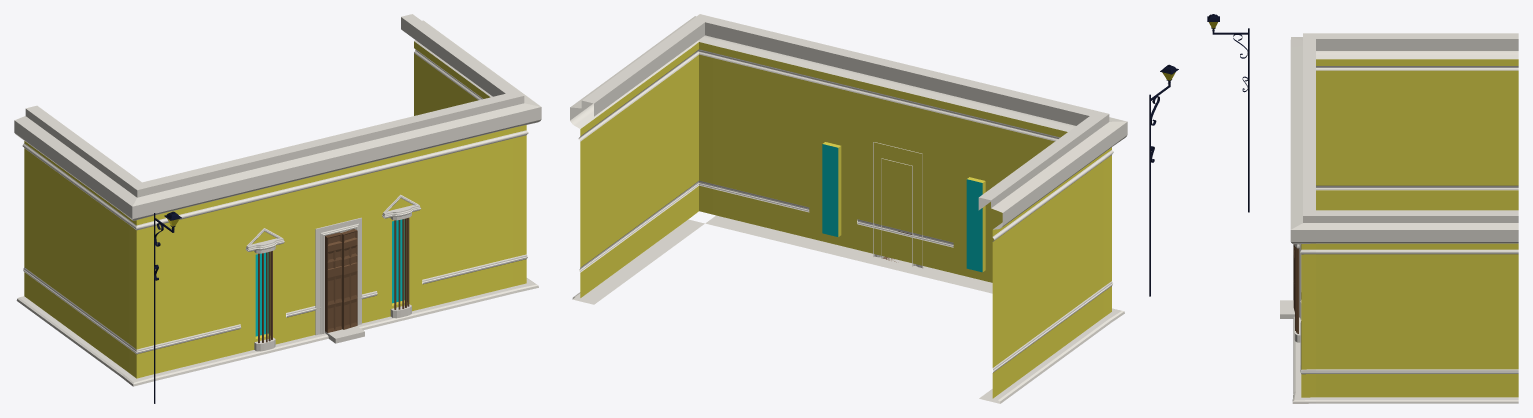
The model's file is izamalHouse1.fbx.
The picture shows the model from 3 angles, left to right: view 1: azimuth 30°, elevation 25°; view 2: azimuth 150°, elevation 25°; view 3: azimuth 270°, elevation 25°; orthographic projection. The views are drawn at different scales.
Visible parts, largest first — view 1: Wall2x2x0.000, Wall1x2x0.001, Wall1x2x0.25, Wall1x2x0.000, Window.000, Window.006, Wall2x2x0.001, Door.002, Corner90, Corner90.001, WindowBars.001, WindowBars (+1 smaller); view 2: Wall2x2x0.000, Wall2x2x0.001, Wall1x2x0.001, Wall1x2x0.000, Window.000, Window.006, Wall1x2x0.25, Corner90.001, Corner90, Pole.001, Door.002; view 3: Wall2x2x0.001, Wall2x2x0.000, Corner90.001, Wall1x2x0.001, Wall1x2x0.000, Wall1x2x0.25, Window.000, Pole.001, Window.006, Door.002.
Part boxes in pixels (bbox=[...]): Wall2x2x0.000: bbox=[14, 105, 141, 377]; Wall1x2x0.001: bbox=[415, 93, 518, 314]; Wall1x2x0.25: bbox=[142, 160, 246, 380]; Wall1x2x0.000: bbox=[279, 127, 382, 347]; Window.000: bbox=[370, 116, 427, 325]; Window.006: bbox=[233, 149, 291, 358]; Wall2x2x0.001: bbox=[401, 14, 527, 115]; Door.002: bbox=[315, 217, 364, 343]; Corner90: bbox=[119, 182, 155, 386]; Corner90.001: bbox=[506, 91, 541, 292]; WindowBars.001: bbox=[394, 217, 409, 309]; WindowBars: bbox=[258, 251, 272, 343]; Wall2x2x0.000: bbox=[978, 116, 1113, 403]; Wall2x2x0.001: bbox=[570, 19, 704, 304]; Wall1x2x0.001: bbox=[705, 17, 813, 246]; Wall1x2x0.000: bbox=[849, 52, 957, 281]; Window.000: bbox=[801, 40, 861, 258]; Window.006: bbox=[945, 76, 1005, 293]; Wall1x2x0.25: bbox=[993, 87, 1096, 222]; Corner90.001: bbox=[682, 14, 717, 216]; Corner90: bbox=[1090, 111, 1127, 322]; Pole.001: bbox=[1149, 64, 1178, 296]; Door.002: bbox=[873, 142, 923, 268]; Wall2x2x0.001: bbox=[1316, 210, 1518, 403]; Wall2x2x0.000: bbox=[1316, 33, 1518, 210]; Corner90.001: bbox=[1290, 210, 1315, 403]; Wall1x2x0.001: bbox=[1290, 167, 1315, 392]; Wall1x2x0.000: bbox=[1290, 103, 1315, 328]; Wall1x2x0.25: bbox=[1290, 39, 1315, 263]; Window.000: bbox=[1290, 146, 1315, 349]; Pole.001: bbox=[1207, 14, 1249, 212]; Window.006: bbox=[1290, 81, 1315, 285]; Door.002: bbox=[1280, 244, 1301, 319].
Bounding box in the file's own units: 456 × 216 × 307.
